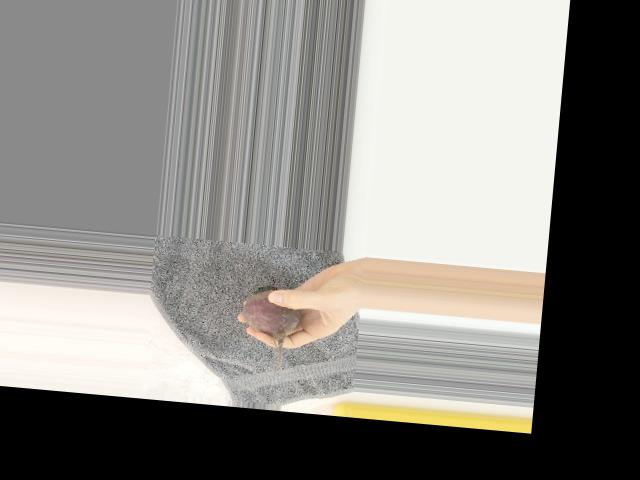beet: (237, 282, 302, 375)
